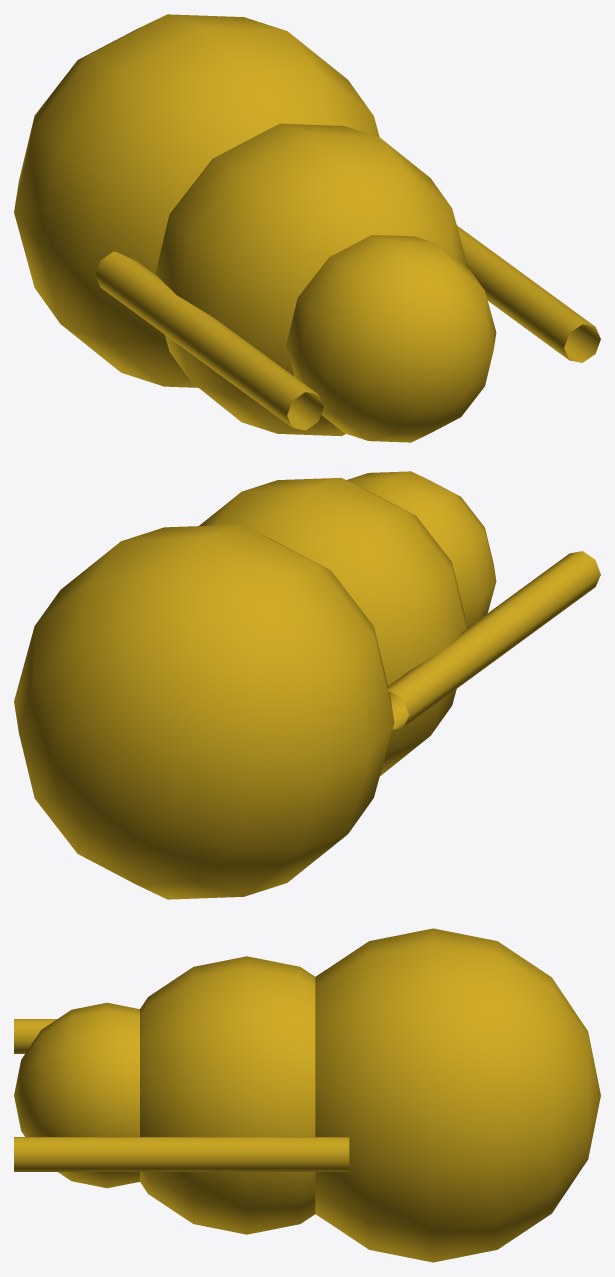
The picture shows the model from 3 angles, top to bottom: view 1: azimuth 30°, elevation 25°; view 2: azimuth 150°, elevation 25°; view 3: azimuth 270°, elevation 25°; orthographic projection. The views are drawn at different scales.
Parts seen in each view (by area): view 1: Ghost_Moth; view 2: Ghost_Moth; view 3: Ghost_Moth.
Boxes of the visible parts, x1,y1,x2,y2 form: Ghost_Moth: [14, 14, 600, 442]; Ghost_Moth: [14, 471, 600, 899]; Ghost_Moth: [14, 928, 600, 1262].
Bounding box in the file's own units: 0.396 × 0.396 × 0.693.
